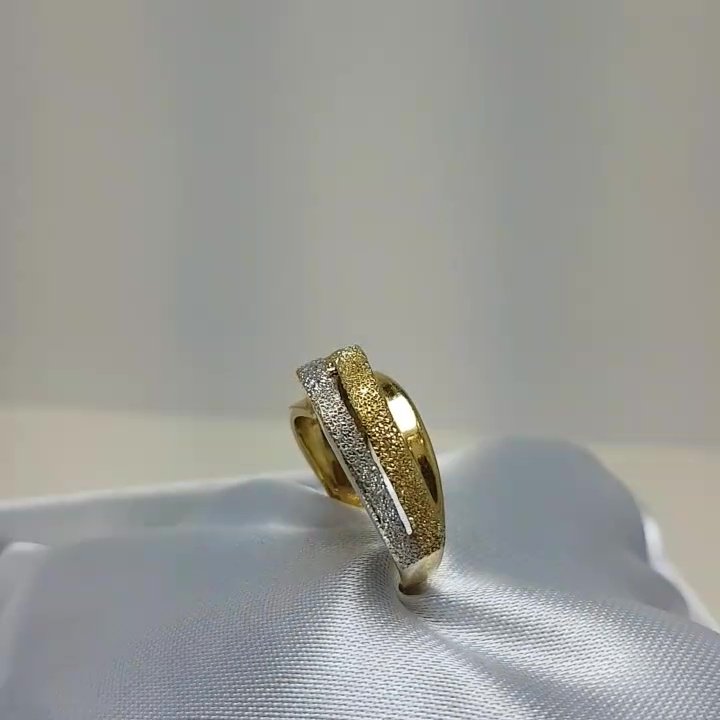Ring 5: (238, 346, 471, 596)
